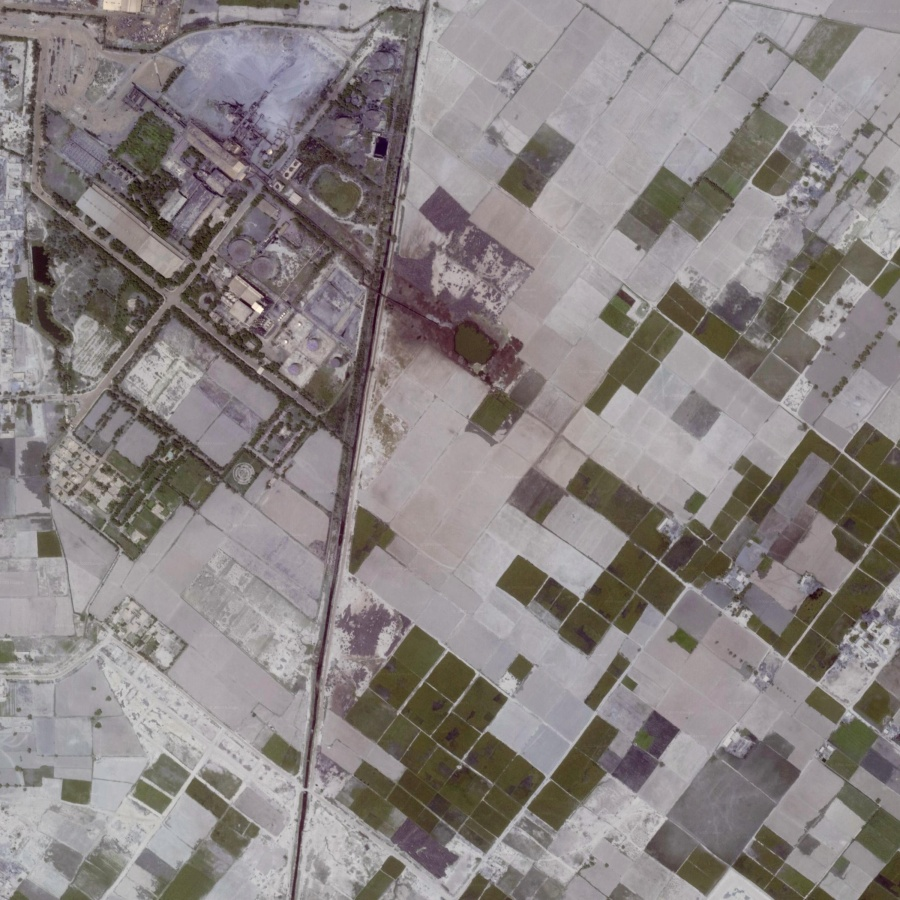PowerPlant: (174, 166, 364, 384)
